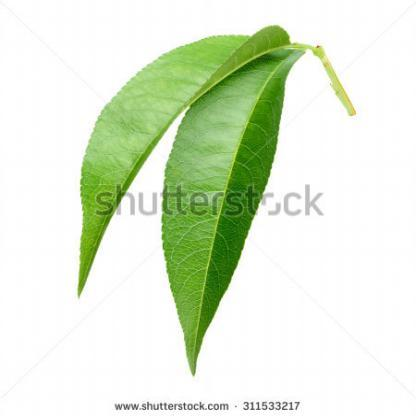Peach leaf: (69, 27, 284, 302), (161, 51, 298, 384)
